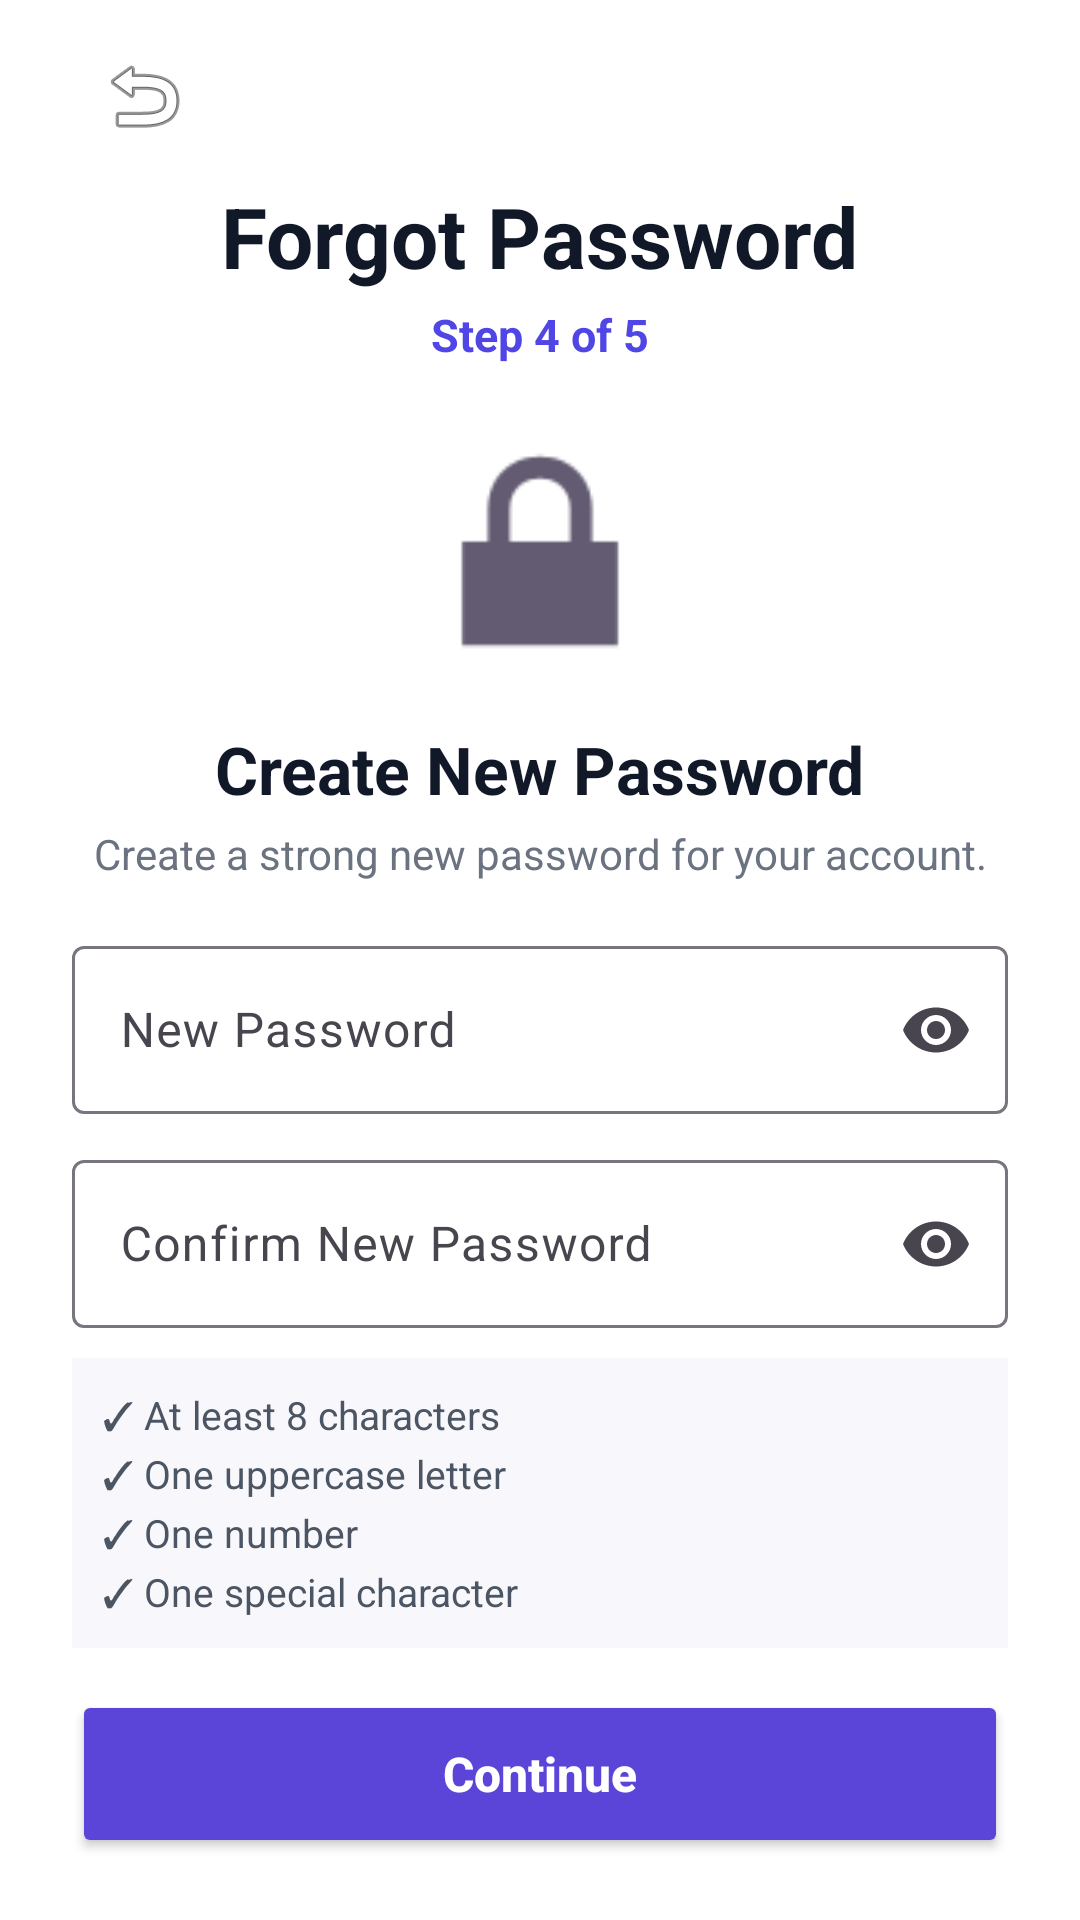

Screen size 1080×1920. Icon name, then its box in pixels as (x1, y1, x2, y2):
Back: (111, 65, 180, 128)
